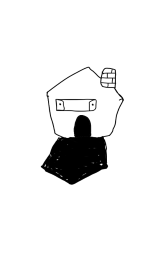chimney: (98, 63, 120, 93)
door: (72, 113, 94, 142)
open_window: (53, 95, 98, 113)
shadow: (37, 135, 115, 188)
single_line_roof: (36, 62, 131, 97)
small_house: (1, 1, 161, 260)
wall: (44, 94, 125, 143)
